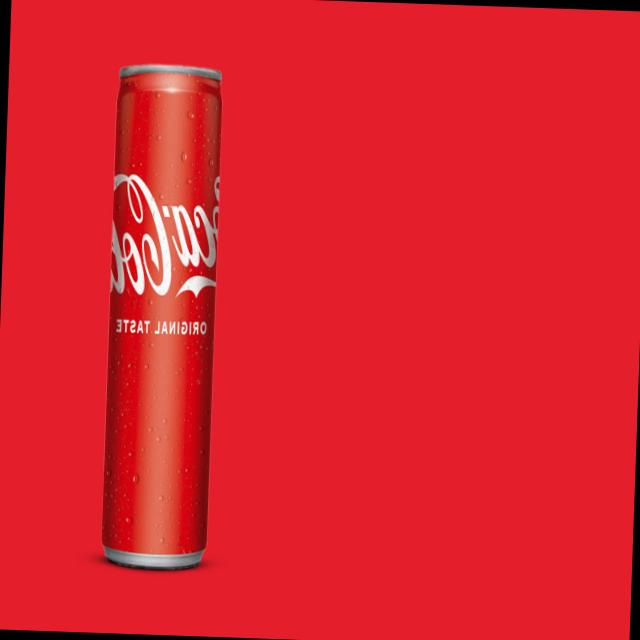cocacola: (95, 60, 229, 572)
